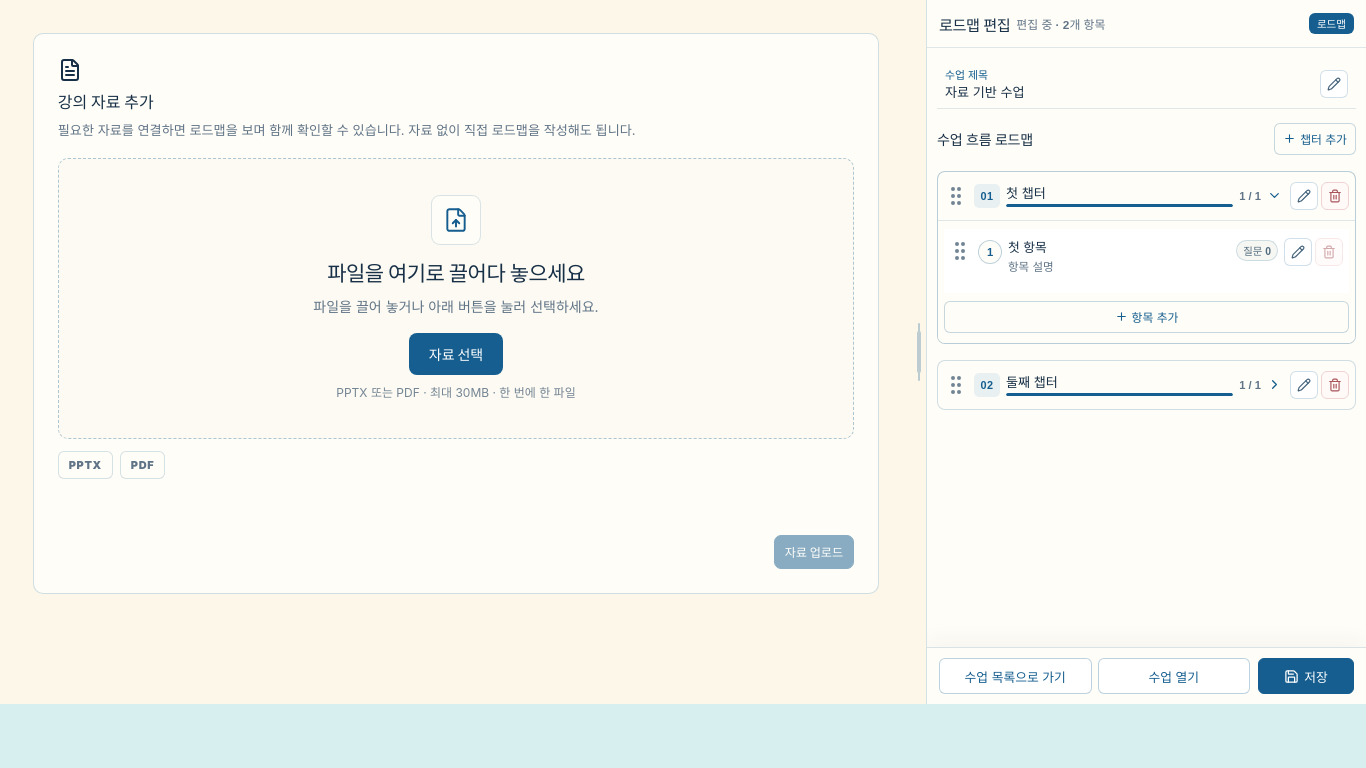
Scenario: CourseFlowEditorPage › 선택한 항목만 상세 편집하고 취소와 적용으로 값을 제어한다
The image size is (1366, 768).
Expected: the heading "로드맵 편집" is shown, x1=939 y1=12 x2=1010 y2=34
Click the button "1 첫 항목 항목 설명" at point(1103, 257), box x1=976 y1=237 x2=1230 y2=278
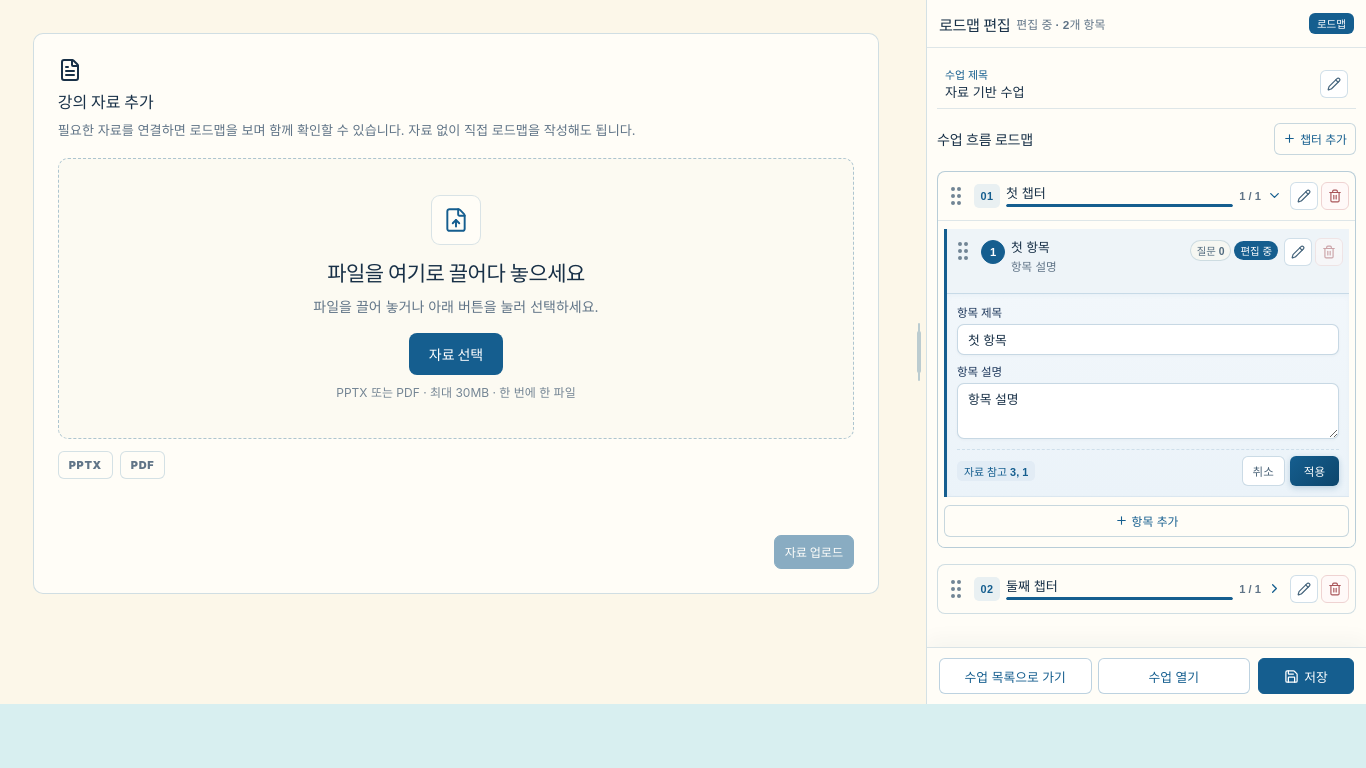
Now the number of elements with test id "selected-checklist-item-editor" is 1, box x1=947 y1=293 x2=1349 y2=497
Replace the text in the field named "챕터 1 항목 1 제목" with "취소할 제목" at point(1148, 339), box x1=957 y1=324 x2=1339 y2=355
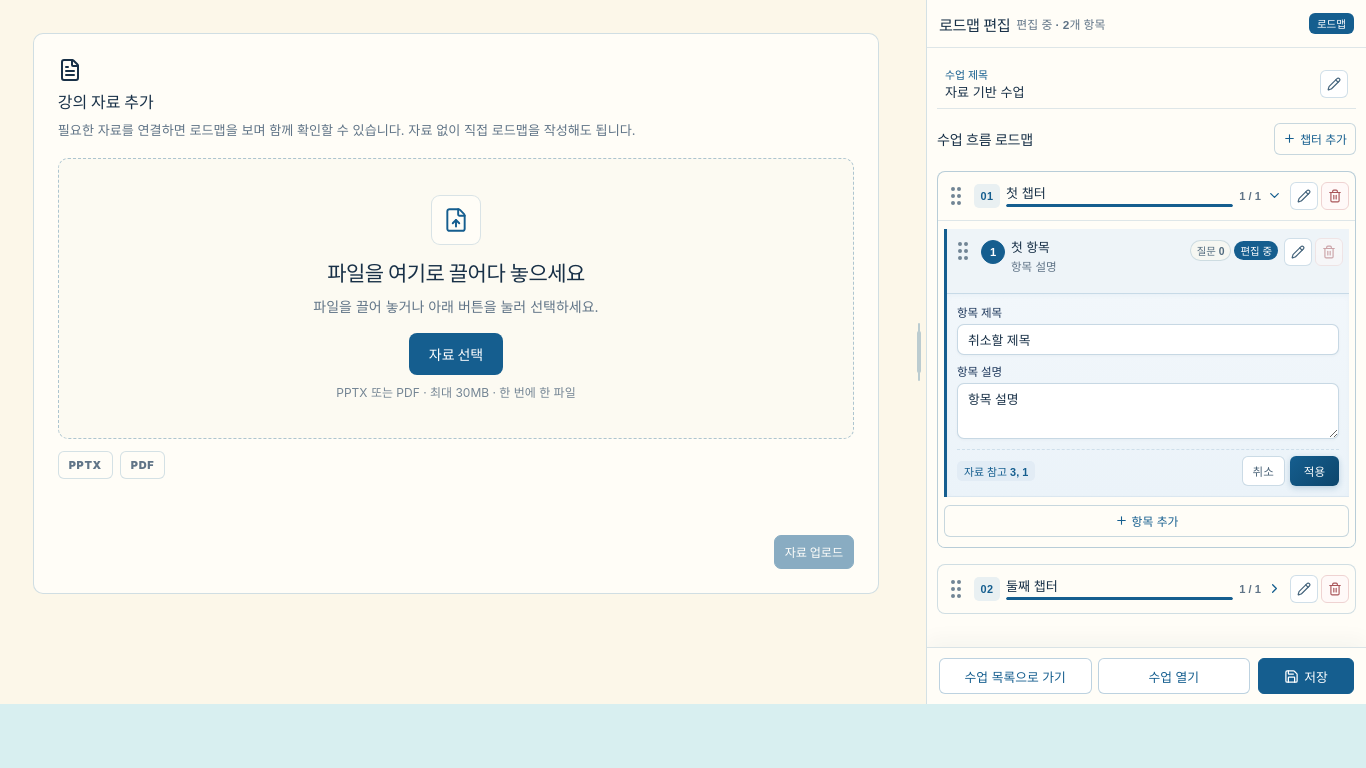
Click the button "취소" at point(1263, 471), box x1=1242 y1=456 x2=1285 y2=486
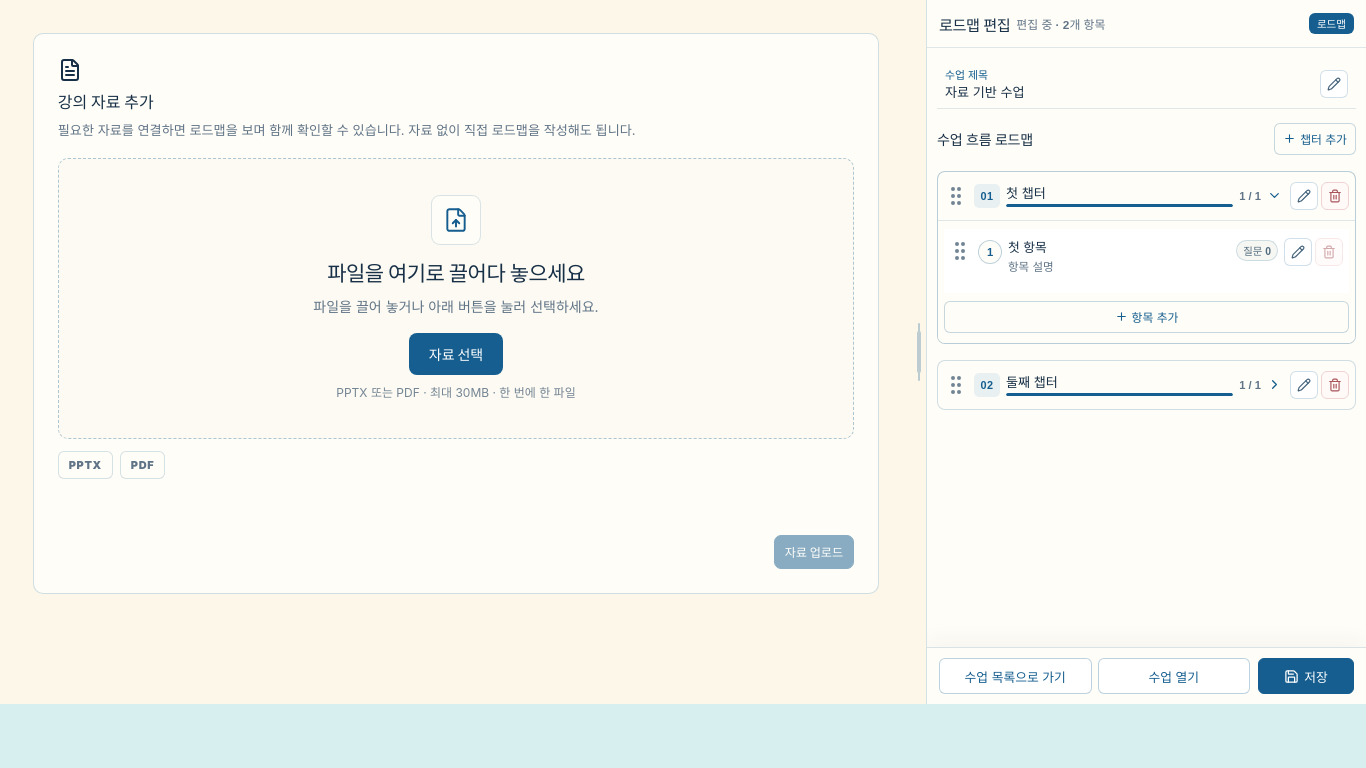
Expected: the text "취소할 제목" is not shown
Now the element with test id "selected-checklist-item-editor" is gone
Click the button "1 첫 항목 항목 설명" at point(1103, 257), box x1=976 y1=237 x2=1230 y2=278
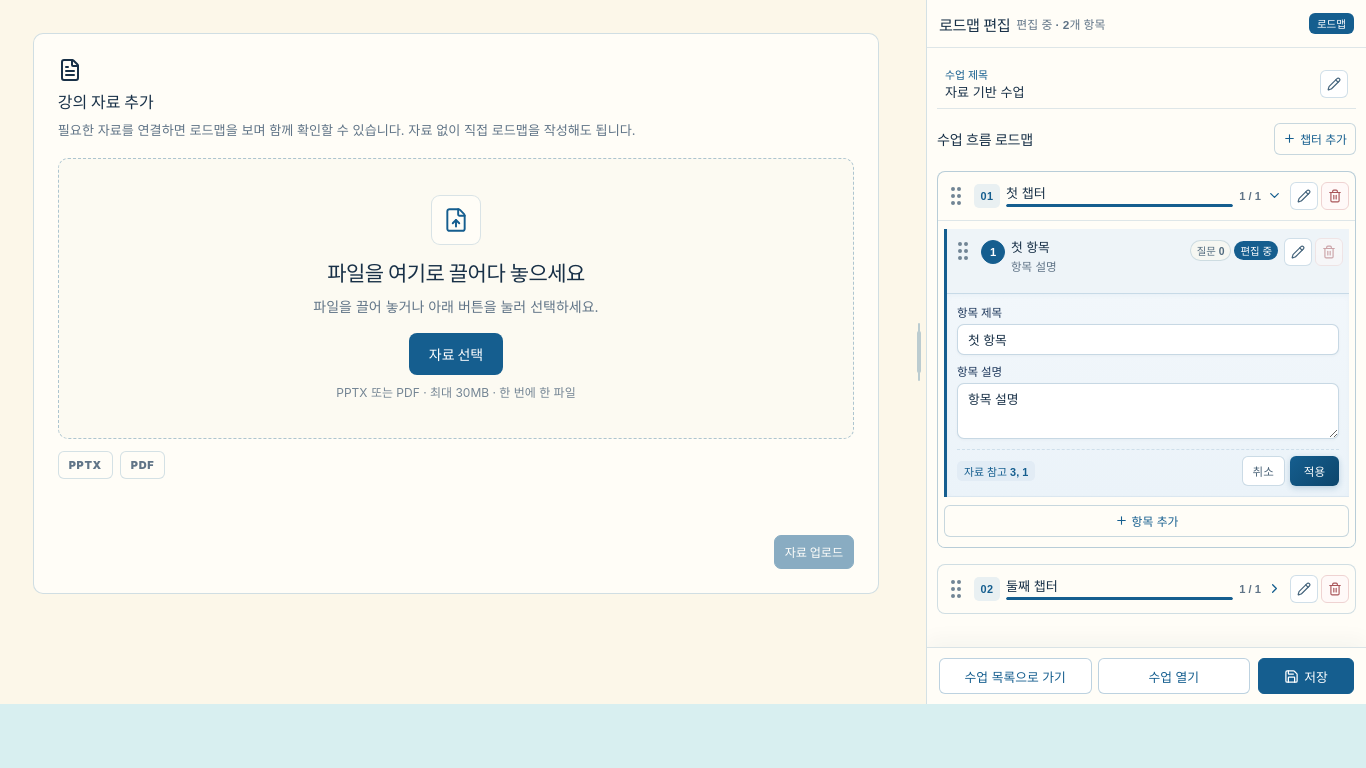
Replace the text in the field named "챕터 1 항목 1 제목" with "적용한 제목" at point(1148, 339), box x1=957 y1=324 x2=1339 y2=355
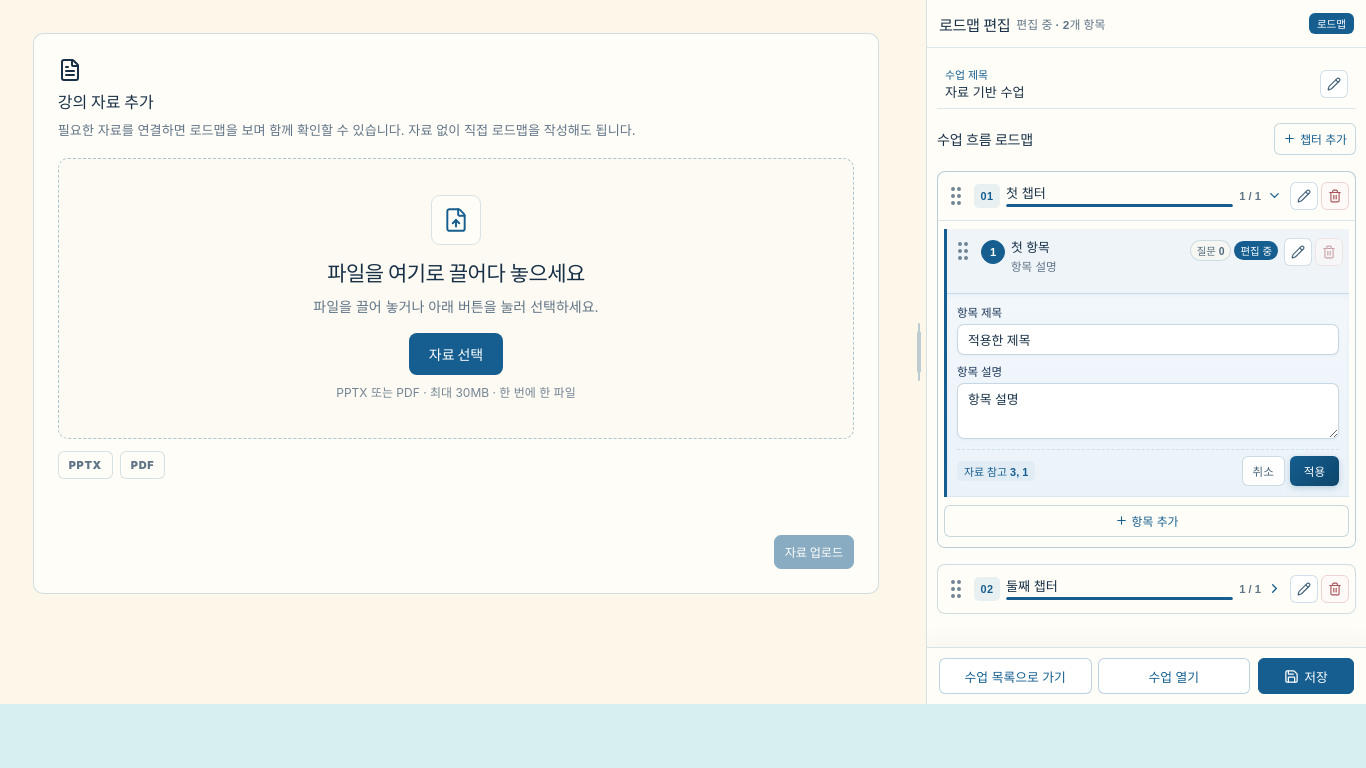
Click the button "적용" at point(1314, 471), box x1=1290 y1=456 x2=1339 y2=486
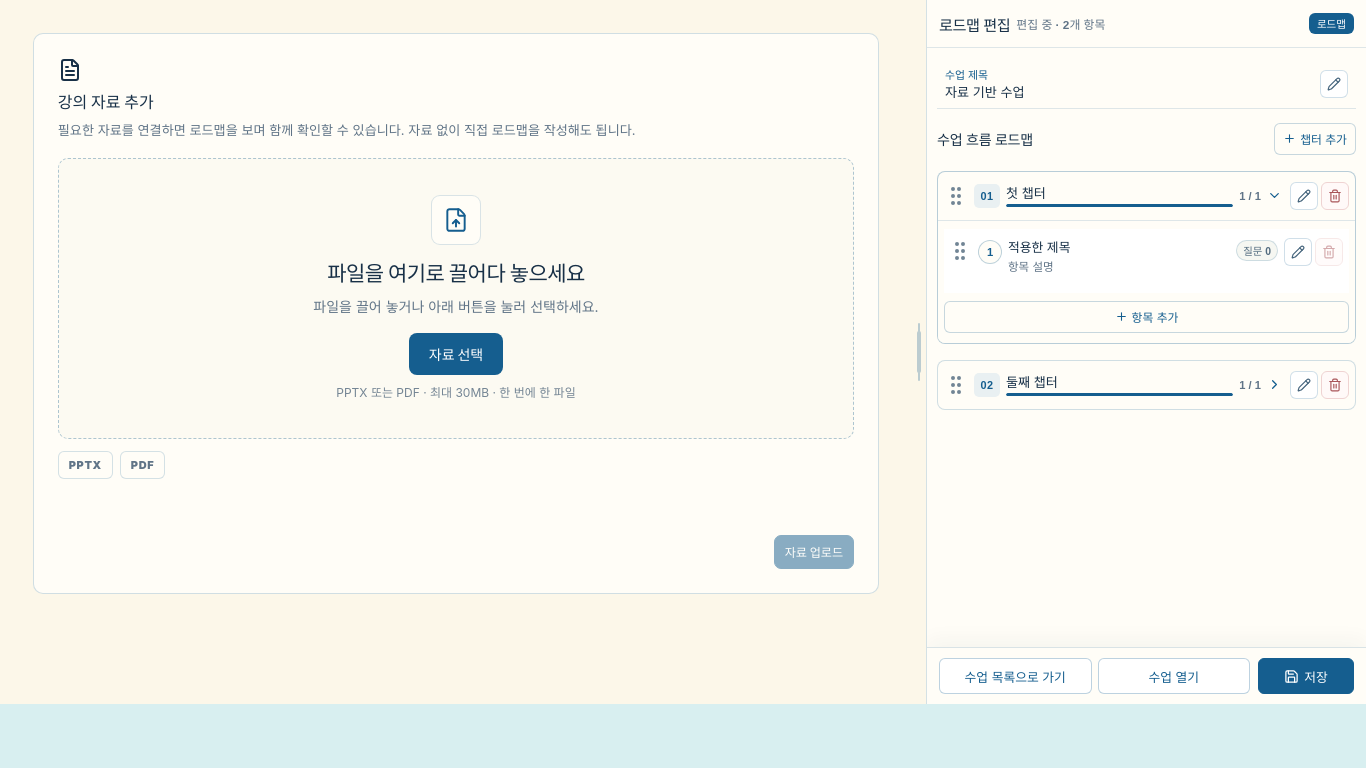
Now the element with test id "selected-checklist-item-editor" is gone
Now the text "적용한 제목" is shown, box x1=1008 y1=240 x2=1070 y2=255
